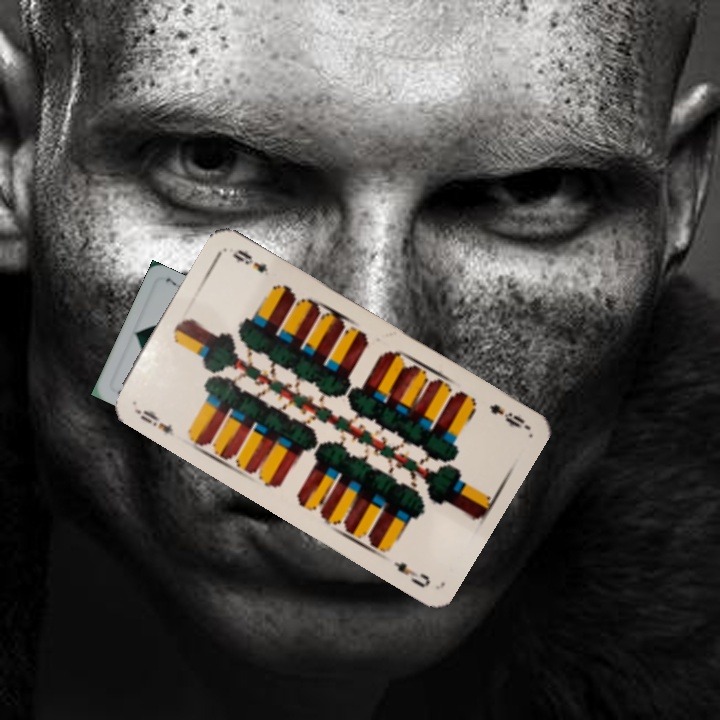E9: (130, 404, 177, 439), (485, 399, 529, 431)
